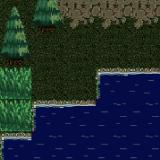Interaction: (87, 61, 160, 82), (21, 95, 87, 111), (21, 111, 38, 147), (87, 82, 105, 111), (0, 124, 21, 147)
Slow: (101, 76, 160, 160), (36, 109, 100, 160), (0, 66, 31, 131), (5, 140, 35, 160)
